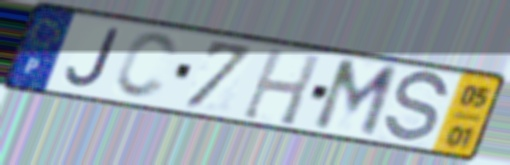7: (185, 38, 259, 113)
C: (111, 30, 180, 102)
H: (238, 44, 325, 128)
J: (63, 26, 123, 90)
M: (308, 57, 403, 142)
S: (380, 69, 452, 146)
